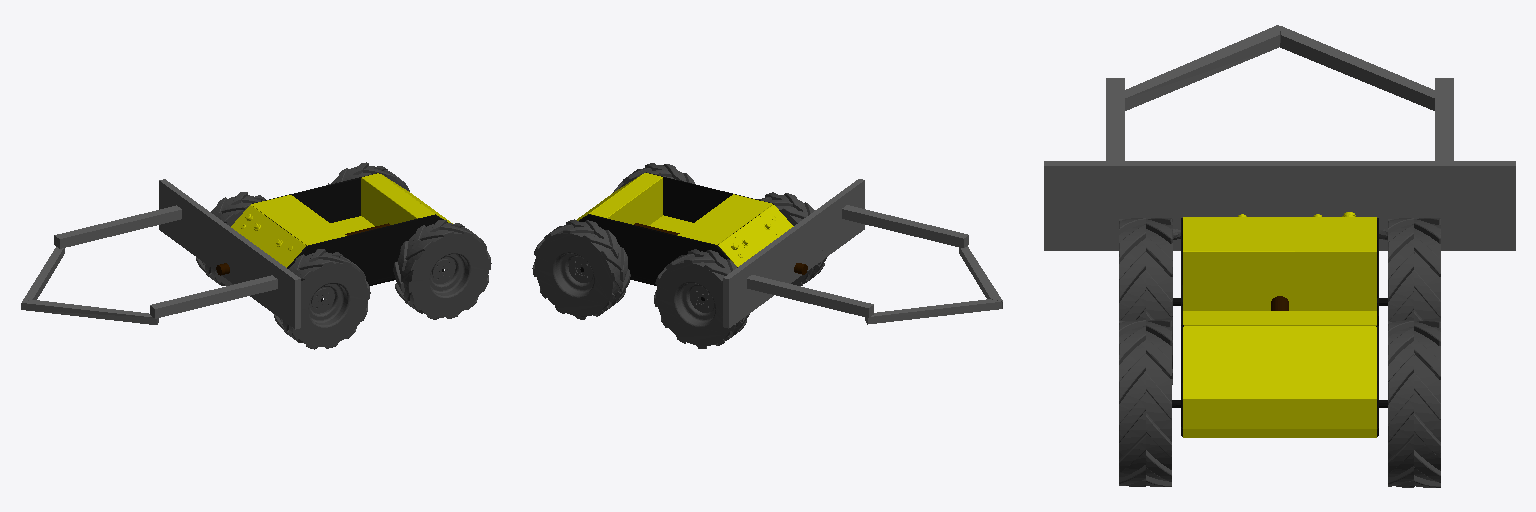
The robot description file, URDF, robot "car_with_gripper":
<?xml version="1.0"?>
<!-- created with Phobos 1.0.1 "Capricious Choutengan" -->
  <robot name="car_with_gripper">

    <link name="back_left_wheel">
  	  <contact>
        <lateral_friction value="1.0"/>
        <rolling_friction value="0.0"/>
        <stiffness value="30000"/>
        <damping value="1000"/>
      </contact>    
      <inertial>
        <mass value="2.637"/>
        <origin xyz="0 0 0"/>
        <inertia ixx="0.02467" ixy="0" ixz="0" iyy="0.02467" iyz="0" izz="0.04411"/>
      </inertial>
      <visual name="visual_0_rear_left_wheel_link">
        <origin xyz="0 0 0" rpy="-1.5708 0 0"/>
        <geometry>
          <mesh filename="Wheel.003.dae" scale="2.0 2.0 2.0"/>
        </geometry>
        <material name="DarkGrey"/>
      </visual>
      <collision name="collision_0_rear_left_wheel_link">
        <origin xyz="3e-05 0 0" rpy="0 0 0"/>
        <geometry>
          <cylinder radius="0.35552" length="0.22892"/>
        </geometry>
      </collision>
    </link>

    <link name="back_right_wheel">
  	  <contact>
        <lateral_friction value="1.0"/>
        <rolling_friction value="0.0"/>
        <stiffness value="30000"/>
        <damping value="1000"/>
      </contact>     
      <inertial>
        <mass value="2.637"/>
        <origin xyz="0 0 0"/>
        <inertia ixx="0.02467" ixy="0" ixz="0" iyy="0.02467" iyz="0" izz="0.04411"/>
      </inertial>
      <visual name="visual_0_rear_right_wheel_link">
        <origin xyz="0 0 0" rpy="1.5708 0 0"/>
        <geometry>
          <mesh filename="Wheel.001.dae" scale="2.0 2.0 2.0"/>
        </geometry>
        <material name="DarkGrey"/>
      </visual>
      <collision name="collision_0_rear_right_wheel_link">
        <origin xyz="3e-05 0 0" rpy="3.14159 0 0"/>
        <geometry>
          <cylinder radius="0.35552" length="0.22892"/>
        </geometry>
      </collision>
    </link>

    <link name="front_left_wheel">
  	  <contact>
        <lateral_friction value="1.0"/>
        <rolling_friction value="0.0"/>
        <stiffness value="30000"/>
        <damping value="1000"/>
      </contact>     
      <inertial>
        <mass value="2.637"/>
        <origin xyz="0 0 0"/>
        <inertia ixx="0.02467" ixy="0" ixz="0" iyy="0.02467" iyz="0" izz="0.04411"/>
      </inertial>
      <visual name="visual_0_front_left_wheel_link">
        <origin xyz="0 0 0" rpy="-1.5708 0 0"/>
        <geometry>
          <mesh filename="Wheel.002.dae" scale="2.0 2.0 2.0"/>
        </geometry>
        <material name="DarkGrey"/>
      </visual>
      <collision name="collision_0_front_left_wheel_link">
        <origin xyz="3e-05 0 0" rpy="0 0 0"/>
        <geometry>
          <cylinder radius="0.35552" length="0.22892"/>
        </geometry>
      </collision>
    </link>

    <link name="front_right_wheel">
  	  <contact>
        <lateral_friction value="1.0"/>
        <rolling_friction value="0.0"/>
        <stiffness value="30000"/>
        <damping value="1000"/>
      </contact>     
      <inertial>
        <mass value="2.637"/>
        <origin xyz="0 0 0"/>
        <inertia ixx="0.02467" ixy="0" ixz="0" iyy="0.02467" iyz="0" izz="0.04411"/>
      </inertial>
      <visual name="visual_0_front_right_wheel_link">
        <origin xyz="0 0 0" rpy="1.5708 0 0"/>
        <geometry>
          <mesh filename="Wheel.dae" scale="2.0 2.0 2.0"/>
        </geometry>
        <material name="DarkGrey"/>
      </visual>
      <collision name="collision_0_front_right_wheel_link">
        <origin xyz="3e-05 0 0" rpy="3.14159 0 0"/>
        <geometry>
          <cylinder radius="0.35552" length="0.22892"/>
        </geometry>
      </collision>
    </link>

    <link name="gripper_link">
      <inertial>
        <origin xyz="0 0 0" rpy="0 0 0"/>
        <mass value="0.001"/>
        <inertia ixx="0.001" ixy="0" ixz="0" iyy="0.001" iyz="0" izz="0.001"/>
      </inertial>
      <visual name="Cube">
        <origin xyz="0.02853 0 0.22159" rpy="0 1.5708 0"/>
        <geometry>
          <mesh filename="Cube.012.dae" scale="0.025 1.0 0.2"/>
        </geometry>
        <material name="Material_gripper"/>
      </visual>
      <visual name="Cube.001">
        <origin xyz="0.09126 -0.7 0.74384" rpy="0 1.5708 0"/>
        <geometry>
          <mesh filename="Cube.013.dae" scale="0.54 0.04 0.04"/>
        </geometry>
        <material name="Material_gripper"/>
      </visual>
      <visual name="Cube.004">
        <origin xyz="0.09126 0.7 0.74384" rpy="0 1.5708 0"/>
        <geometry>
          <mesh filename="Cube.016.dae" scale="0.54 0.04 0.04"/>
        </geometry>
        <material name="Material_gripper"/>
      </visual>
      <collision name="Cube">
        <origin xyz="0.02853 0 0.22159" rpy="0 1.5708 0"/>
        <geometry>
          <box size="0.05 2.0 0.4"/>
        </geometry>
      </collision>
      <collision name="Cube.001">
        <origin xyz="0.09126 -0.7 0.74384" rpy="0 1.5708 0"/>
        <geometry>
          <box size="1.08 0.08 0.08"/>
        </geometry>
      </collision>
      <collision name="Cube.004">
        <origin xyz="0.09126 0.7 0.74384" rpy="0 1.5708 0"/>
        <geometry>
          <box size="1.08 0.08 0.08"/>
        </geometry>
      </collision>
    </link>

    <link name="left_gripper">
      <inertial>
        <origin xyz="0 0 0" rpy="0 0 0"/>
        <mass value="0.001"/>
        <inertia ixx="0.001" ixy="0" ixz="0" iyy="0.001" iyz="0" izz="0.001"/>
      </inertial>
      <visual name="Cube.002">
        <origin xyz="0 0 0" rpy="0 0 0"/>
        <geometry>
          <mesh filename="Cube.017.dae" scale="0.52 0.03 0.03"/>
        </geometry>
        <material name="Material_gripper"/>
      </visual>
      <collision name="Cube.002">
        <origin xyz="-0.46297 -0.00727 0" rpy="0 0 0"/>
        <geometry>
          <box size="0.93792 0.06903 0.06"/>
        </geometry>
      </collision>
    </link>

    <link name="link_chassis">
    <inertial>
      <mass value="33.455"/>
      <origin xyz="-0.08748 -0.00085 0.09947"/>
      <inertia ixx="0.6022" ixy="-0.02364" ixz="-0.1197" iyy="1.7386" iyz="-0.001544" izz="2.0296"/>
    </inertial>
      <visual name="visual_0_base_link">
        <origin xyz="0 0 0" rpy="0 0 0"/>
        <geometry>
          <mesh filename="Base Link.dae" scale="2.0 2.0 2.0"/>
        </geometry>
        <material name="Black"/>
      </visual>
      <visual name="visual_0_front_bumper_link">
        <origin xyz="-0.95647 0 0.18682" rpy="0 -3.14159 0"/>
        <geometry>
          <mesh filename="Bumper.001.dae" scale="2.0 2.0 2.0"/>
        </geometry>
        <material name="DarkGrey"/>
      </visual>
      <collision name="collision_0_base_link">
        <origin xyz="0 0 0.22138" rpy="0 0 0"/>
        <geometry>
          <box size="1.96928 0.85643 0.45546"/>
        </geometry>
      </collision>
    </link>

    <link name="right_gripper">
      <inertial>
        <origin xyz="0 0 0" rpy="0 0 0"/>
        <mass value="0.001"/>
        <inertia ixx="0.001" ixy="0" ixz="0" iyy="0.001" iyz="0" izz="0.001"/>
      </inertial>
      <visual name="Cube.003">
        <origin xyz="0 0 0" rpy="-3.14159 0 1.5708"/>
        <geometry>
          <mesh filename="Cube.018.dae" scale="0.51 0.03 0.03"/>
        </geometry>
        <material name="Material_gripper"/>
      </visual>
      <collision name="Cube.003">
        <origin xyz="0.00971 -0.47324 0" rpy="-3.14159 0 1.5708"/>
        <geometry>
          <box size="0.9334 0.07221 0.06"/>
        </geometry>
      </collision>
    </link>

    <link name="top_plate_link">
      <inertial>
        <origin xyz="0 0 0" rpy="0 0 0"/>
        <mass value="0.001"/>
        <inertia ixx="0.001" ixy="0" ixz="0" iyy="0.001" iyz="0" izz="0.001"/>
      </inertial>
      <visual name="visual_0_top_plate_link">
        <origin xyz="0 0 0" rpy="0 0 0"/>
        <geometry>
          <mesh filename="Top Plate.dae" scale="2.0 2.0 2.0"/>
        </geometry>
        <material name="Yellow"/>
      </visual>
    </link>

    <link name="shooter">
      <inertial>
        <origin xyz="-0.3 0 0.2" rpy="0 1.57 0"/>
        <mass value="0.1"/>
        <inertia ixx="0" ixy="0" ixz="0" iyy="0" iyz="0" izz="0"/>
      </inertial>
      <visual>
        <origin xyz="-0.3 0 0.2" rpy="0 1.57 0"/>
        <geometry>
          <cylinder length="1.5" radius="0.04"/>
        </geometry>
        <material name="darkbrown"/>
      </visual>
      <collision>
        <origin xyz="-0.3 0 0.2" rpy="0 1.57 0"/>
        <geometry>
          <cylinder length="1" radius="0.2"/>
        </geometry>
      </collision>  
    </link>

    <joint name="back_left_wheel" type="continuous">
      <origin xyz="0.51273 -0.57095 0.06809" rpy="1.5708 0 0"/>
      <parent link="link_chassis"/>
      <child link="back_left_wheel"/>
      <axis xyz="0 0 1.0"/>
      <limit effort="10.0" velocity="3.14"/>
    </joint>

    <joint name="back_right_wheel" type="continuous">
      <origin xyz="0.51754 0.57095 0.06809" rpy="-1.5708 0 0"/>
      <parent link="link_chassis"/>
      <child link="back_right_wheel"/>
      <axis xyz="0 0 1.0"/>
      <limit effort="10.0" velocity="3.14"/>
    </joint>

    <joint name="front_left_wheel" type="continuous">
      <origin xyz="-0.51189 -0.57 0.06809" rpy="1.5708 0 0"/>
      <parent link="link_chassis"/>
      <child link="front_left_wheel"/>
      <axis xyz="0 0 1.0"/>
      <limit effort="10.0" velocity="3.14"/>
    </joint>

    <joint name="front_right_wheel" type="continuous">
      <origin xyz="-0.51205 0.57095 0.06809" rpy="-1.5708 0 0"/>
      <parent link="link_chassis"/>
      <child link="front_right_wheel"/>
      <axis xyz="0 0 1.0"/>
      <limit effort="10.0" velocity="3.14"/>
    </joint>

    <joint name="gripper_link" type="floating">
      <origin xyz="-0.73516 0 0.27954" rpy="0 -1.5708 0"/>
      <parent link="link_chassis"/>
      <child link="gripper_link"/>
    </joint>

    <joint name="left_gripper" type="revolute">
      <origin xyz="0.02126 -0.7 1.25384" rpy="-1.5708 0.7854 -1.5708"/>
      <parent link="gripper_link"/>
      <child link="left_gripper"/>
      <axis xyz="0 0 1.0"/>
      <limit lower="0" upper="3.93" effort="10.0" velocity="3.14"/>
    </joint>

    <joint name="right_gripper" type="revolute">
      <origin xyz="0.02126 0.7 1.25384" rpy="-1.5708 0.7854 -1.5708"/>
      <parent link="gripper_link"/>
      <child link="right_gripper"/>
      <axis xyz="0 0 1.0"/>
      <limit lower="-3.93" upper="0" effort="10.0" velocity="3.14"/>
    </joint>

    <joint name="top_plate_link" type="floating">
      <origin xyz="0 0 0" rpy="0 0 0"/>
      <parent link="link_chassis"/>
      <child link="top_plate_link"/>
    </joint>

    <joint name="top_plate_shooter" type="prismatic">
      <parent link="top_plate_link"/>
      <child link="shooter"/>
      <limit effort="1.0" lower="-40" upper="40" velocity="0.5"/>
      <origin rpy="0 0 0" xyz="0 0 0"/>
    </joint>

    <material name="Black">
      <color rgba="0.1 0.1 0.1 1.0"/>
    </material>

    <material name="DarkGrey">
      <color rgba="0.3 0.3 0.3 1.0"/>
    </material>

    <material name="Material_gripper">
      <color rgba="0.4 0.4 0.4 1.0"/>
    </material>

    <material name="Yellow">
      <color rgba="0.8 0.8 0.01 1.0"/>
    </material>

    <material name="darkbrown" >
      <color rgba="0.20392156862745098 0.10980392156862745 0.00784313725490196 1.0" />
    </material>

  </robot>

--- Render facts (derived) ---
Views: 3 orthographic renders of the robot side by side, from view 1: azimuth 30°, elevation 25°; view 2: azimuth 150°, elevation 25°; view 3: azimuth 270°, elevation 25°.
Model car_with_gripper with 10 links and 9 joints (2 revolute, 4 continuous, 1 prismatic, 2 floating), rooted at link_chassis, posed all joints at 0.
Visible links, largest first — view 1: gripper_link, top_plate_link, back_left_wheel, front_left_wheel, link_chassis, left_gripper, front_right_wheel, back_right_wheel, right_gripper; view 2: gripper_link, top_plate_link, back_right_wheel, front_right_wheel, link_chassis, right_gripper, front_left_wheel, left_gripper, back_left_wheel; view 3: top_plate_link, gripper_link, back_right_wheel, back_left_wheel, front_left_wheel, front_right_wheel, left_gripper, right_gripper, link_chassis.
Boxes of the visible links, x1=… form: gripper_link: x1=54, y1=179, x2=300, y2=329; top_plate_link: x1=231, y1=173, x2=452, y2=267; back_left_wheel: x1=393, y1=220, x2=491, y2=319; front_left_wheel: x1=274, y1=249, x2=370, y2=349; link_chassis: x1=252, y1=173, x2=447, y2=301; left_gripper: x1=21, y1=300, x2=158, y2=324; front_right_wheel: x1=196, y1=192, x2=265, y2=285; back_right_wheel: x1=328, y1=162, x2=409, y2=191; right_gripper: x1=22, y1=247, x2=64, y2=301; gripper_link: x1=723, y1=179, x2=968, y2=328; top_plate_link: x1=577, y1=173, x2=793, y2=266; back_right_wheel: x1=532, y1=219, x2=630, y2=319; front_right_wheel: x1=654, y1=249, x2=749, y2=348; link_chassis: x1=579, y1=172, x2=822, y2=300; right_gripper: x1=865, y1=299, x2=1001, y2=324; front_left_wheel: x1=757, y1=192, x2=826, y2=285; left_gripper: x1=959, y1=246, x2=1002, y2=308; back_left_wheel: x1=613, y1=163, x2=694, y2=192; top_plate_link: x1=1183, y1=212, x2=1376, y2=437; gripper_link: x1=1044, y1=78, x2=1515, y2=250; back_right_wheel: x1=1388, y1=320, x2=1440, y2=487; back_left_wheel: x1=1119, y1=320, x2=1171, y2=486; front_left_wheel: x1=1119, y1=218, x2=1172, y2=384; front_right_wheel: x1=1388, y1=218, x2=1440, y2=321; left_gripper: x1=1125, y1=25, x2=1279, y2=110; right_gripper: x1=1280, y1=26, x2=1434, y2=110; link_chassis: x1=1172, y1=218, x2=1387, y2=436.
Size in the robot's own frame: 3.61 by 2 by 0.7955 metres.
Meshes: 12 distinct files referenced, 12 mesh visuals loaded (12 Collada DAE).